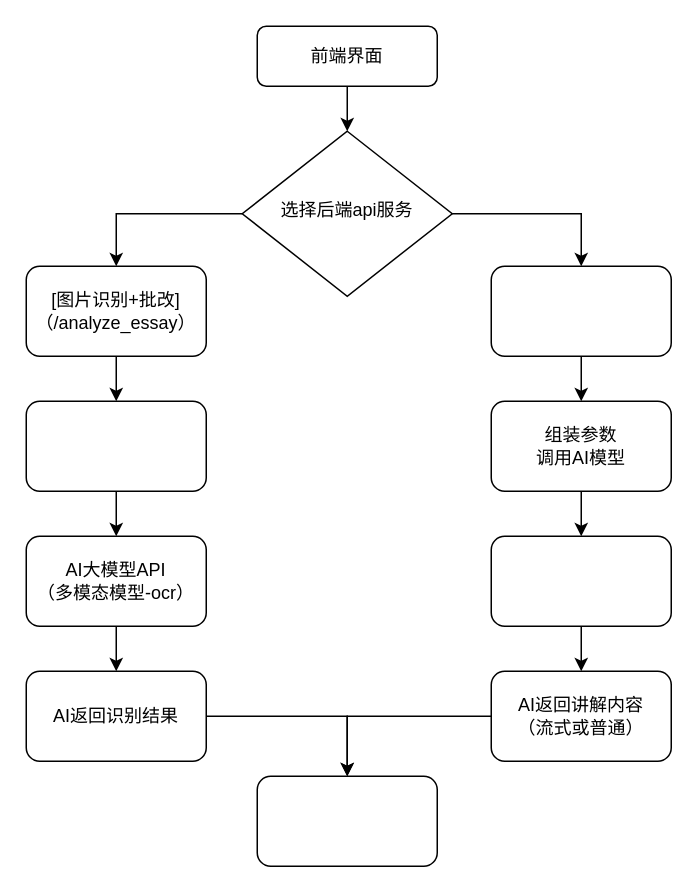
Some shapes in this 698 by 893 pixel diagram are drawn without their labels. The box of each missing label's shape, as (x1, y1, x2, y2) in pixels:
[文本对话/讲解]（/chat）: (490, 265, 671, 356)
AI大模型API （vivo BlueLM-70B）: (490, 535, 671, 626)
后端处理结果 前端展示: (256, 775, 437, 866)
图片Base64编码 调用AI模型: (25, 400, 206, 491)
